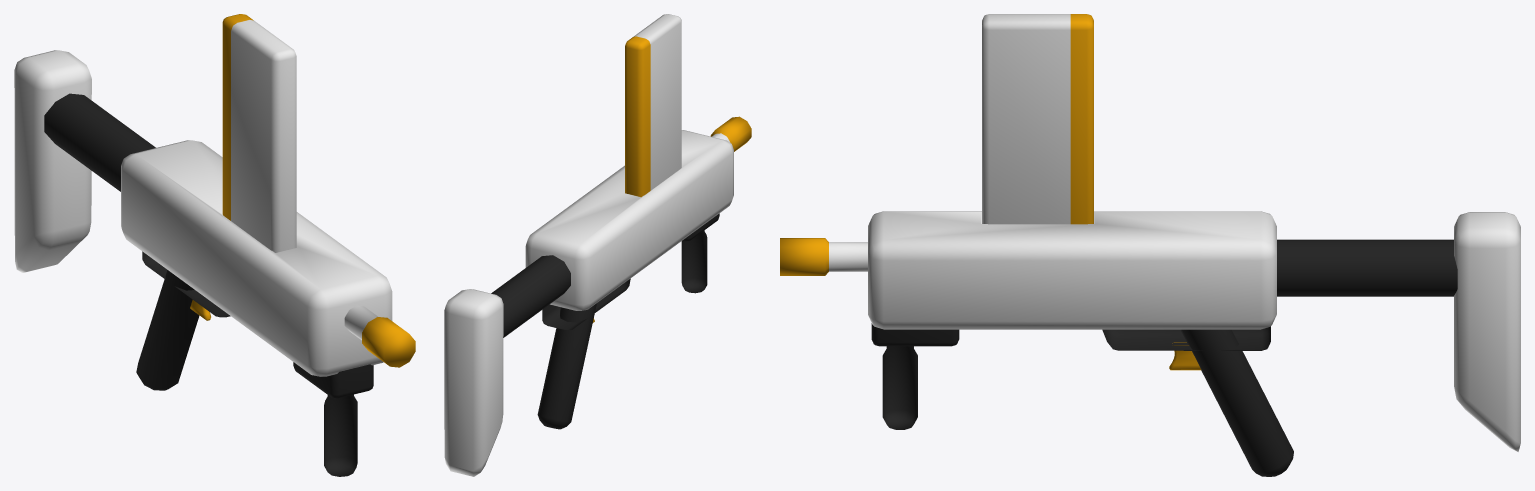
Rendered from dartgun.gltf.
3 views of the same model, side by side, from view 1: azimuth 30°, elevation 25°; view 2: azimuth 150°, elevation 25°; view 3: azimuth 270°, elevation 25° (orthographic). The views are drawn at different scales.
Visible parts, largest first — view 1: Gun, Magazine; view 2: Gun, Magazine; view 3: Gun, Magazine.
Boxes of the visible parts, x1,y1,x2,y2 form: Gun: (14,50,415,476); Magazine: (222,14,296,252); Gun: (444,116,751,476); Magazine: (625,14,681,197); Gun: (780,211,1520,476); Magazine: (982,14,1093,224).
Size of the model in its own units: 0.0687 by 0.348 by 0.5182.
